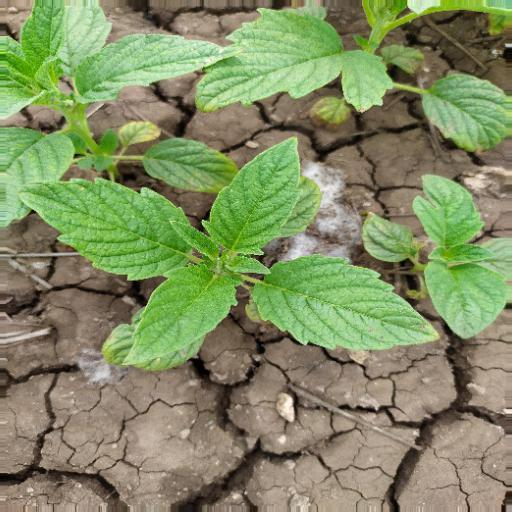crop: (24, 130, 450, 388), (1, 1, 256, 237), (200, 5, 509, 161)
